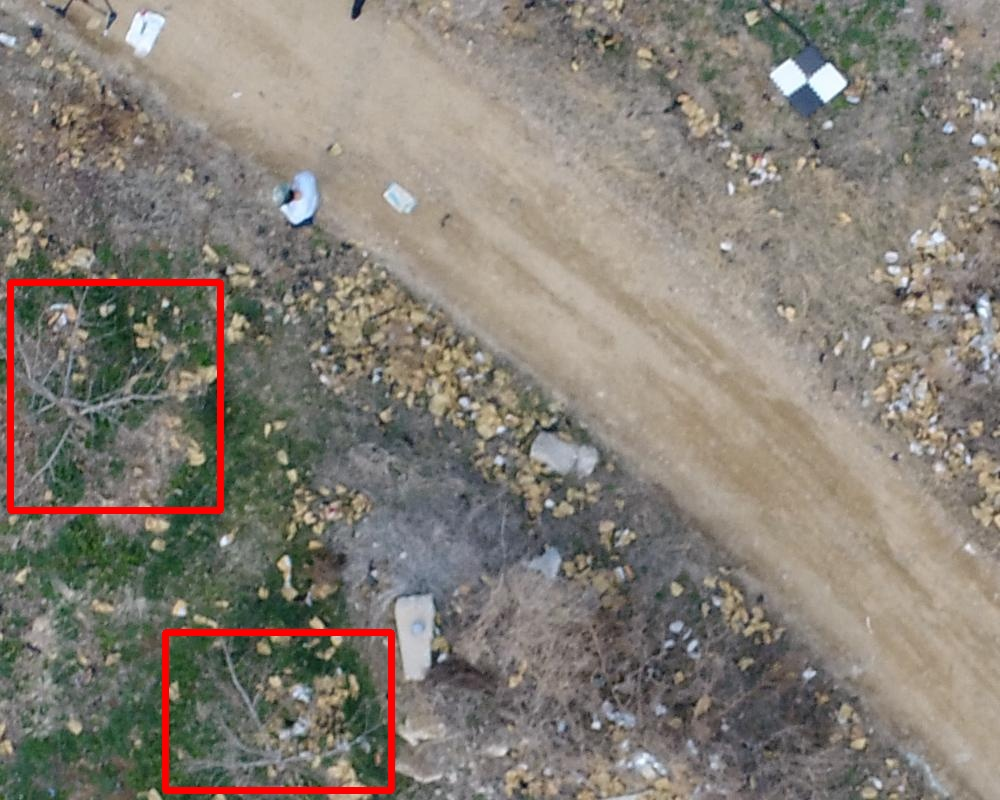apple: (10, 282, 220, 510), (165, 632, 391, 790)
